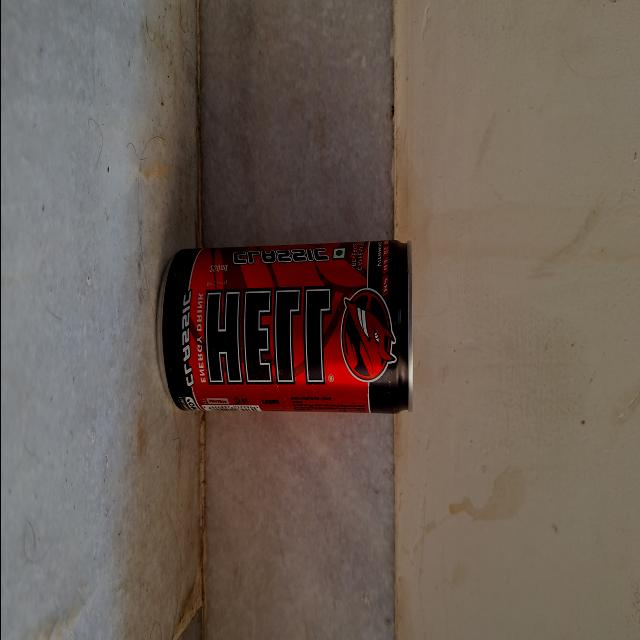Hell Classic: (158, 228, 420, 431)
